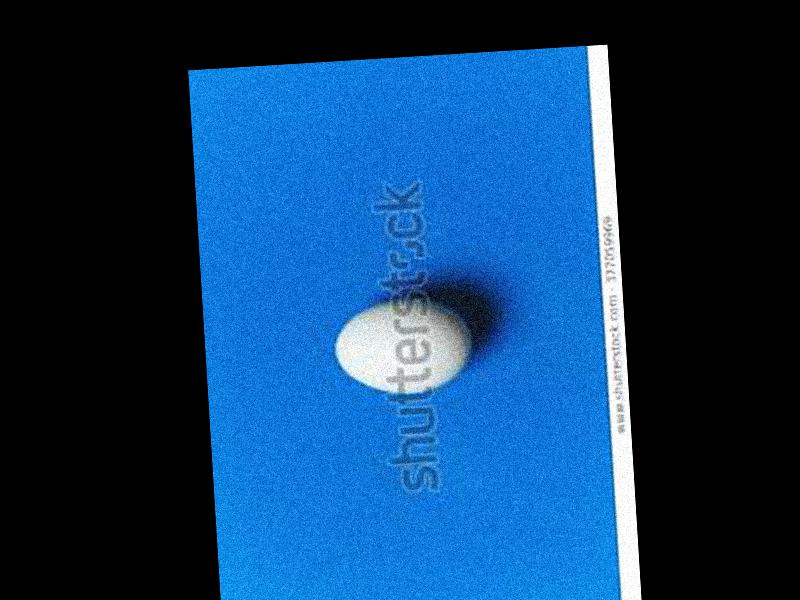Eggs: (328, 295, 474, 396)
